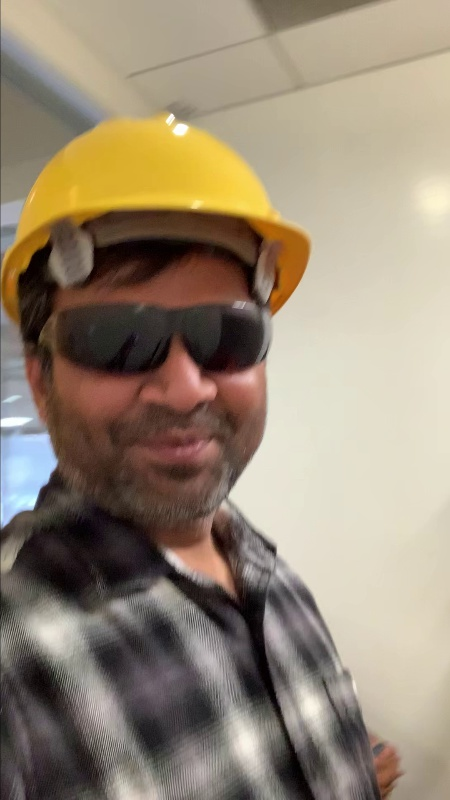glasses: (55, 300, 271, 372)
helmet: (16, 111, 277, 236)
